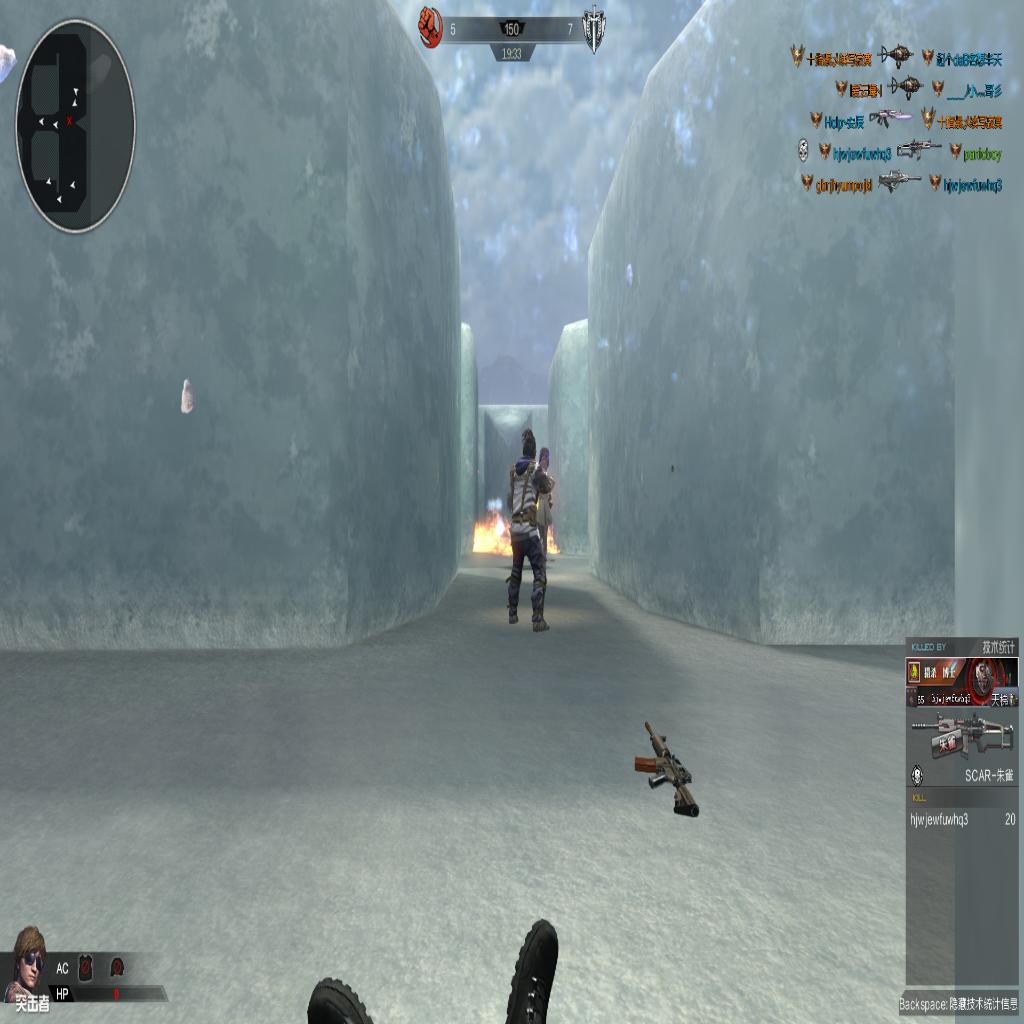tt: (505, 435, 555, 630), (535, 449, 557, 557)
